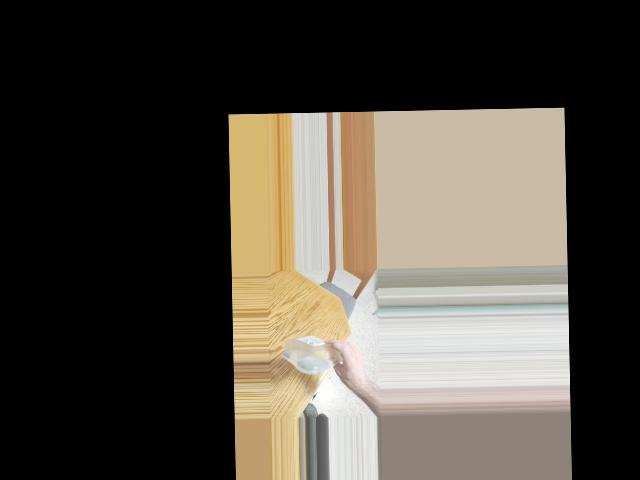cheese: (281, 333, 354, 371)
